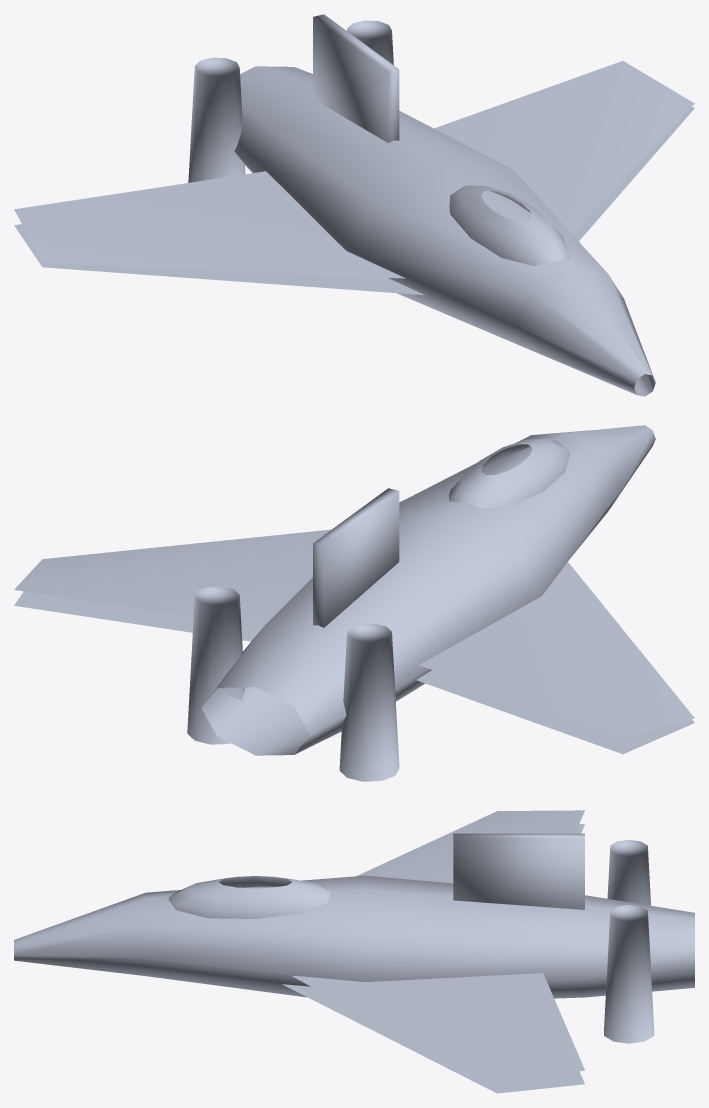
Rendered from polygen_futuristic_starfighter_s_067f4264.obj.
The picture shows the model from 3 angles, top to bottom: view 1: azimuth 30°, elevation 25°; view 2: azimuth 150°, elevation 25°; view 3: azimuth 270°, elevation 25°; orthographic projection. The views are drawn at different scales.
Visible parts, largest first — view 1: Spaceship; view 2: Spaceship; view 3: Spaceship.
Boxes of the visible parts, x1,y1,x2,y2 form: Spaceship: [14, 14, 694, 396]; Spaceship: [14, 425, 694, 781]; Spaceship: [14, 810, 694, 1093].
Bounding box in the file's own units: 1.94 × 0.5323 × 2.
